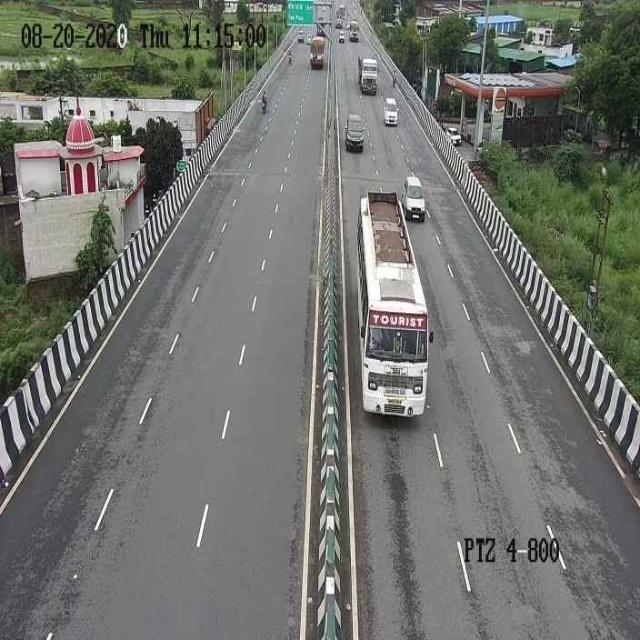car: (402, 172, 427, 222), (342, 107, 367, 153), (379, 92, 400, 128)
